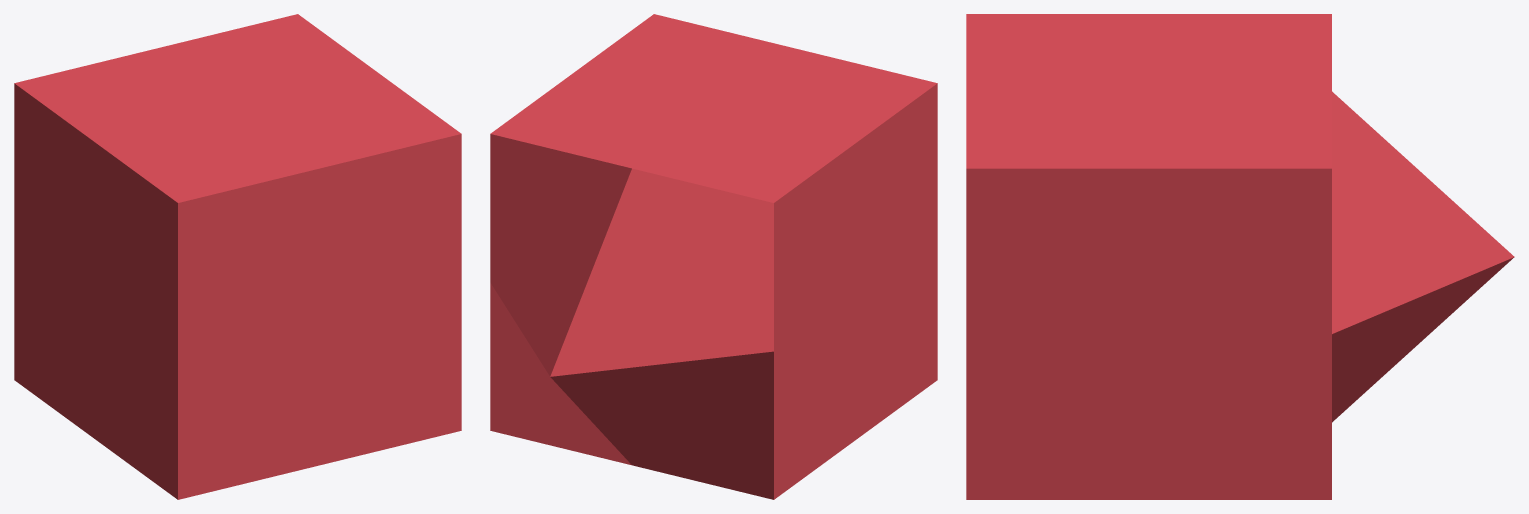
File: MiniBug.glb
The picture shows the model from 3 angles, left to right: view 1: azimuth 30°, elevation 25°; view 2: azimuth 150°, elevation 25°; view 3: azimuth 270°, elevation 25°; orthographic projection. The views are drawn at different scales.
Visible parts, largest first — view 1: MiniBug_0; view 2: MiniBug_0; view 3: MiniBug_0.
Boxes of the visible parts, x1=… form: MiniBug_0: x1=14, y1=14, x2=461, y2=499; MiniBug_0: x1=490, y1=14, x2=937, y2=499; MiniBug_0: x1=966, y1=14, x2=1514, y2=499.
Bounding box in the file's own units: 3 × 3 × 4.5.
